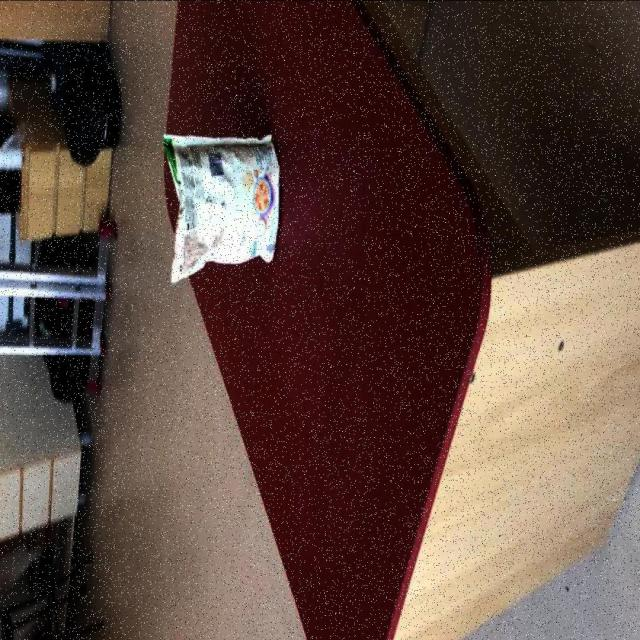CornFlakes: (162, 133, 280, 285)
